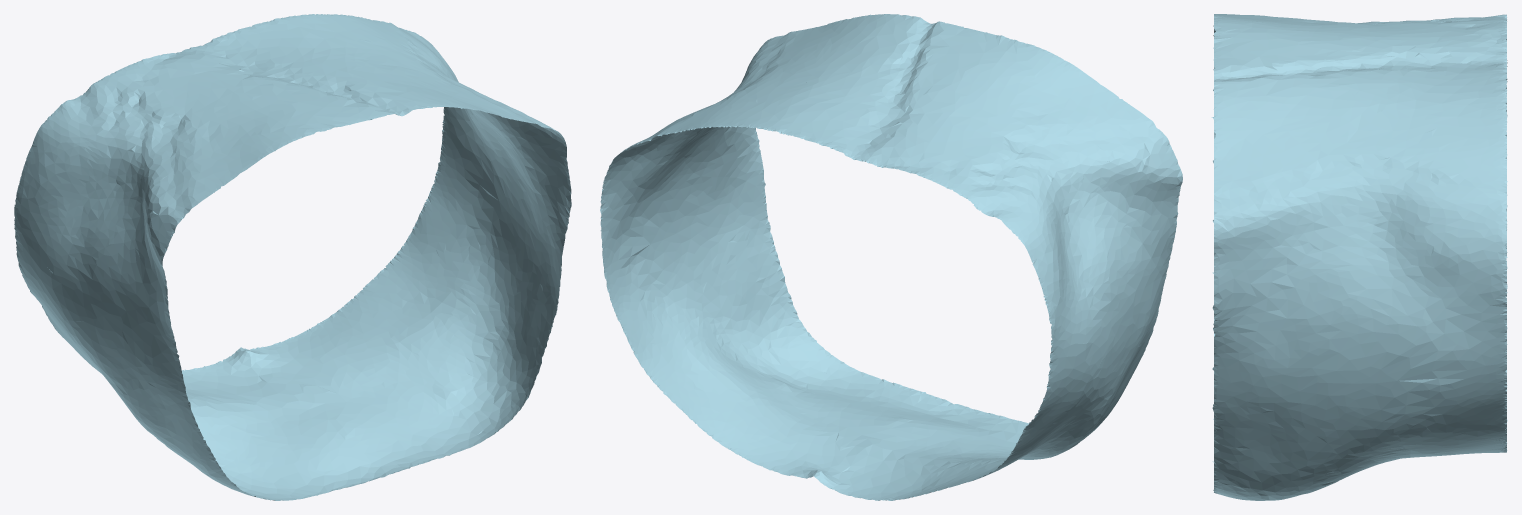
The model's file is skin.obj.
3 views of the same model, side by side, from view 1: azimuth 30°, elevation 25°; view 2: azimuth 150°, elevation 25°; view 3: azimuth 270°, elevation 25° (orthographic). The views are drawn at different scales.
Parts seen in each view (by area): view 1: grp1; view 2: grp1; view 3: grp1.
Boxes of the visible parts, x1,y1,x2,y2 form: grp1: (14, 14, 571, 500); grp1: (600, 14, 1182, 500); grp1: (1211, 14, 1507, 500).
Bounding box in the file's own units: 391 × 313 × 215.
